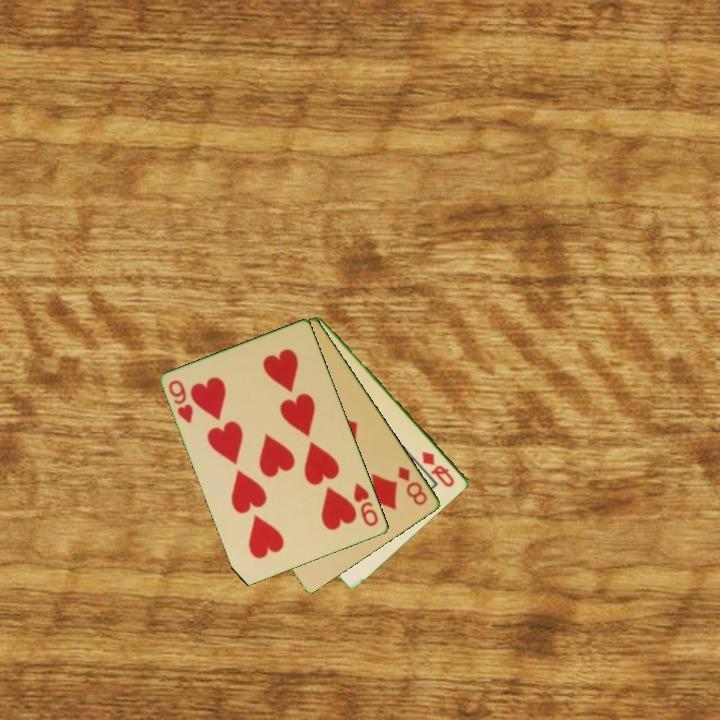8d: (394, 462, 431, 509)
9h: (165, 376, 197, 427), (350, 480, 382, 530)
Qd: (419, 448, 458, 490)
